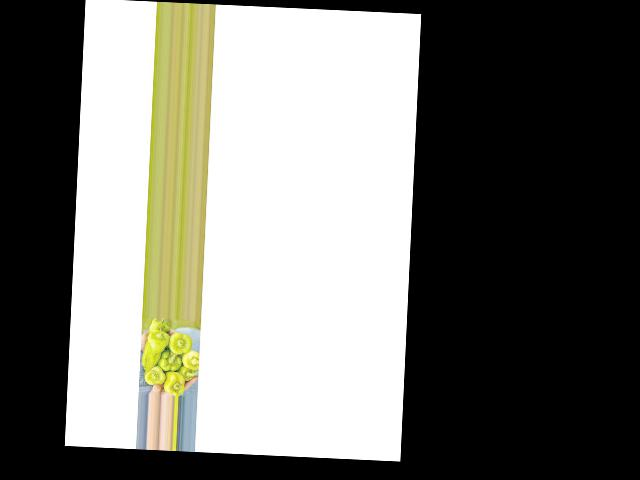bell_pepper: (164, 370, 187, 395)
